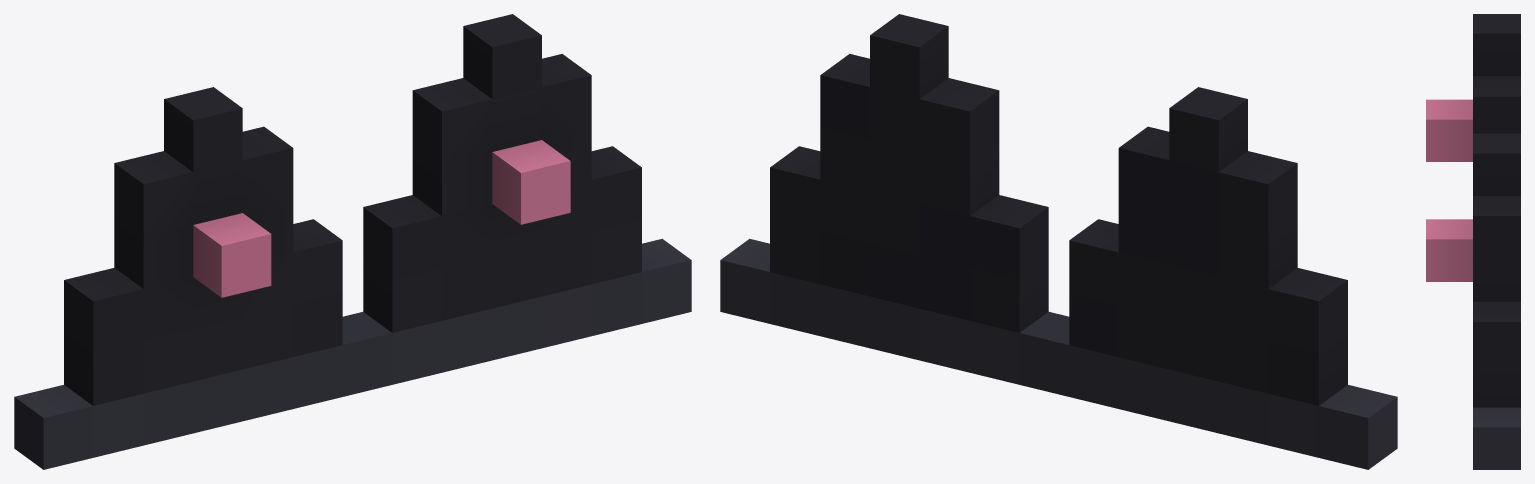
The model's file is hat_catears.glb.
3 views of the same model, side by side, from view 1: azimuth 30°, elevation 25°; view 2: azimuth 150°, elevation 25°; view 3: azimuth 270°, elevation 25° (orthographic). The views are drawn at different scales.
Visible parts, largest first — view 1: Hat; view 2: Hat; view 3: Hat.
Boxes of the visible parts, left/top/right/bottom form: Hat: left=14, top=14, right=691, bottom=469; Hat: left=720, top=14, right=1397, bottom=469; Hat: left=1426, top=14, right=1520, bottom=469.
Bounding box in the file's own units: 1.43 × 0.6602 × 0.2207.
